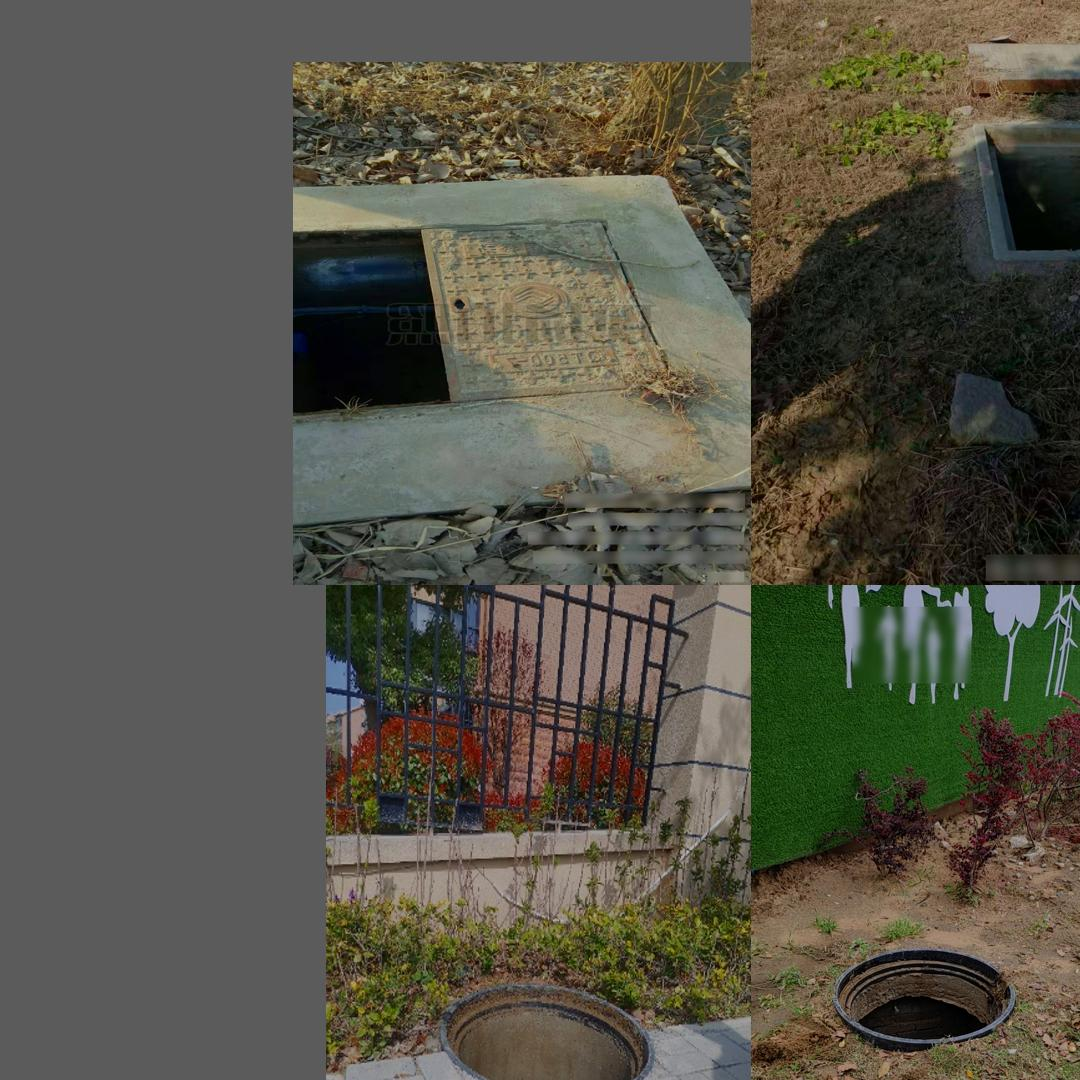lose: (296, 172, 681, 488), (438, 981, 653, 1080), (832, 945, 1020, 1049), (972, 119, 1080, 264)
